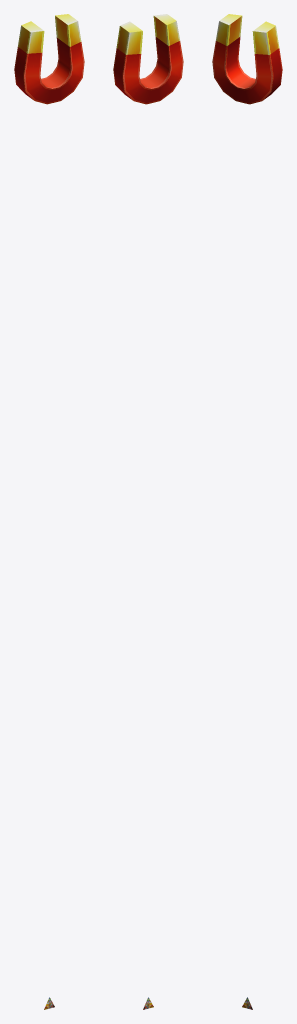
The model's file is coin_magnet.glb.
3 renders of one model, left to right at view 1: azimuth 30°, elevation 25°; view 2: azimuth 210°, elevation 25°; view 3: azimuth 330°, elevation 25°, orthographic.
Parts seen in each view (by area): view 1: Object_2; view 2: Object_2; view 3: Object_2.
Part boxes in pixels (bbox=[...]): Object_2: bbox=[14, 14, 84, 1009]; Object_2: bbox=[113, 14, 183, 1009]; Object_2: bbox=[212, 14, 282, 1009].
Size of the model in its own units: 5.4 by 83.73 by 2.05.
1 material, 1 textured.
